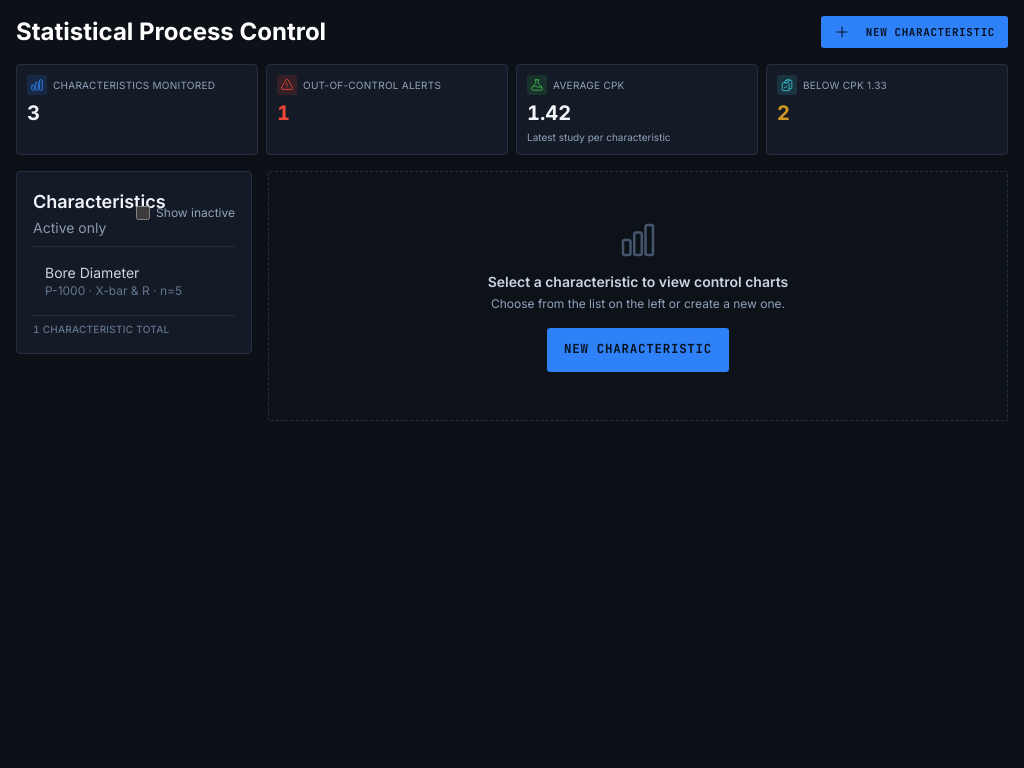
SPC page — API contract › renders capability indices null-safely instead of claiming "Not Capable"
The image size is (1024, 768).
Click the button "Bore Diameter P-1000 · X-bar & R · n=5".
click(132, 280)  # box [33,254,231,306]
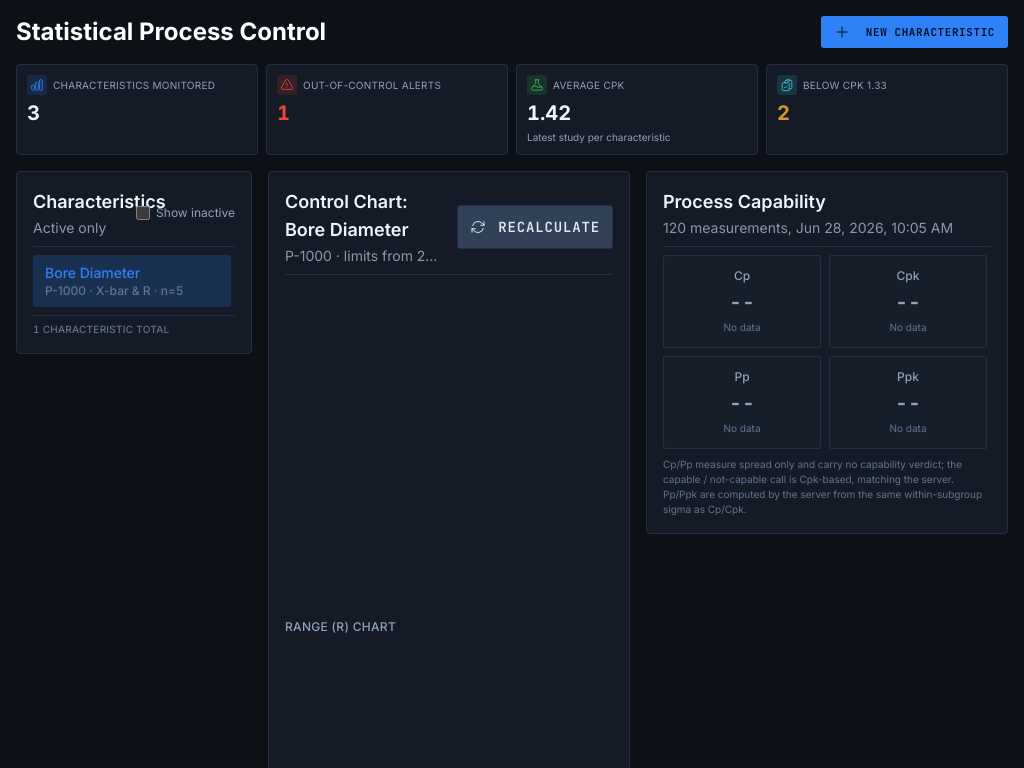
Expected: the heading "Control Chart: Bore Diameter" is shown, [285,190,409,240]
Expected: the text "--" is shown 4 times, [729,290,755,314]; [895,290,921,314]; [729,390,755,414]; [895,390,921,414]
Expected: the text "No data" is shown 4 times, [724,320,760,332]; [890,320,926,332]; [724,422,760,434]; [890,422,926,434]
